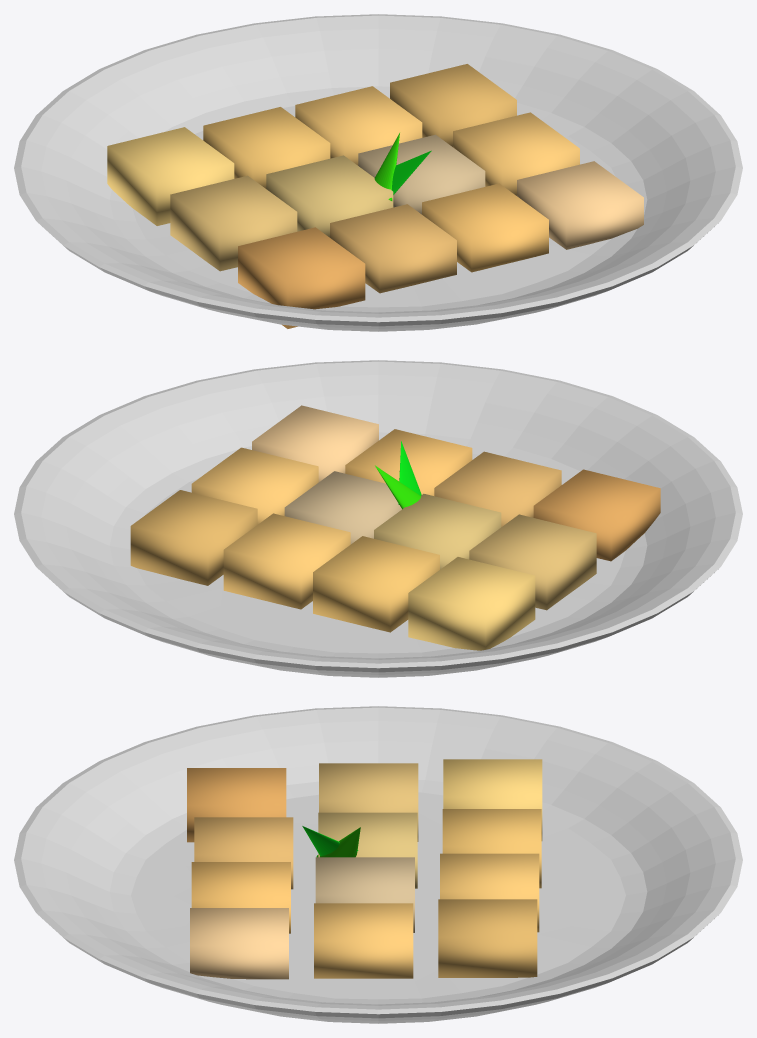
File: kue geplak.fbx
3 views of the same model, one above another, from view 1: azimuth 30°, elevation 25°; view 2: azimuth 150°, elevation 25°; view 3: azimuth 270°, elevation 25° (orthographic).
Visible parts, largest first — view 1: Cylinder, Cube, Cube.001, Cube.002, Cube.003, Cube.009, Cube.006, Cube.010, Cube.011, Cube.004, Cube.005, Cube.008 (+3 smaller); view 2: Cylinder, Cube.002, Cube.005, Cube.011, Cube.008, Cube.001, Cube, Cube.010, Cube.009, Cube.003, Cube.004, Cube.007 (+3 smaller); view 3: Cylinder, Cube.011, Cube.010, Cube.009, Cube, Cube.002, Cube.001, Cube.008, Cube.007, Cube.006, Cube.005, Cube.003 (+3 smaller).
Part boxes in pixels (x1,y1,x2,y2): Cylinder: (14,14,742,331); Cube: (238,227,365,328); Cube.001: (170,175,297,271); Cube.002: (107,127,234,225); Cube.003: (330,204,456,293); Cube.009: (517,161,643,249); Cube.006: (422,183,548,272); Cube.010: (453,112,579,195); Cube.011: (390,64,516,146); Cube.004: (266,155,393,237); Cube.005: (203,107,330,188); Cube.008: (295,86,422,165); Cylinder: (14,360,742,677); Cube.002: (408,557,535,650); Cube.005: (313,536,439,632); Cube.011: (130,490,257,585); Cube.008: (223,513,350,609); Cube.001: (469,514,596,610); Cube: (533,469,660,561); Cube.010: (191,447,318,524); Cube.009: (252,405,378,481); Cube.003: (434,451,561,526); Cube.004: (374,493,501,569); Cube.007: (284,471,401,544); Cylinder: (14,706,742,1023); Cube.011: (438,899,537,977); Cube.010: (314,903,413,978); Cube.009: (190,908,288,979); Cube: (187,768,286,842); Cube.002: (443,759,542,840); Cube.001: (319,763,418,841); Cube.008: (440,853,539,932); Cube.007: (315,857,414,932); Cube.006: (191,862,290,933); Cube.005: (442,809,541,888); Cube.003: (194,817,293,889).
Size of the model in its own units: 231 by 33.83 by 231.
